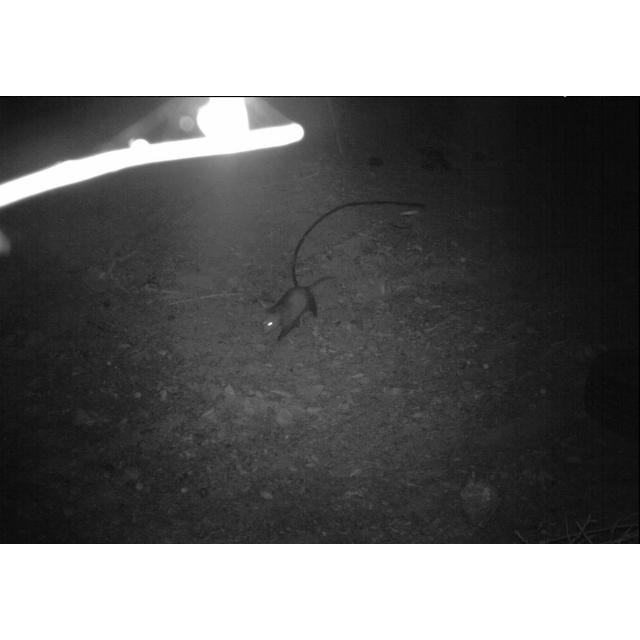animals: (259, 278, 331, 342)
